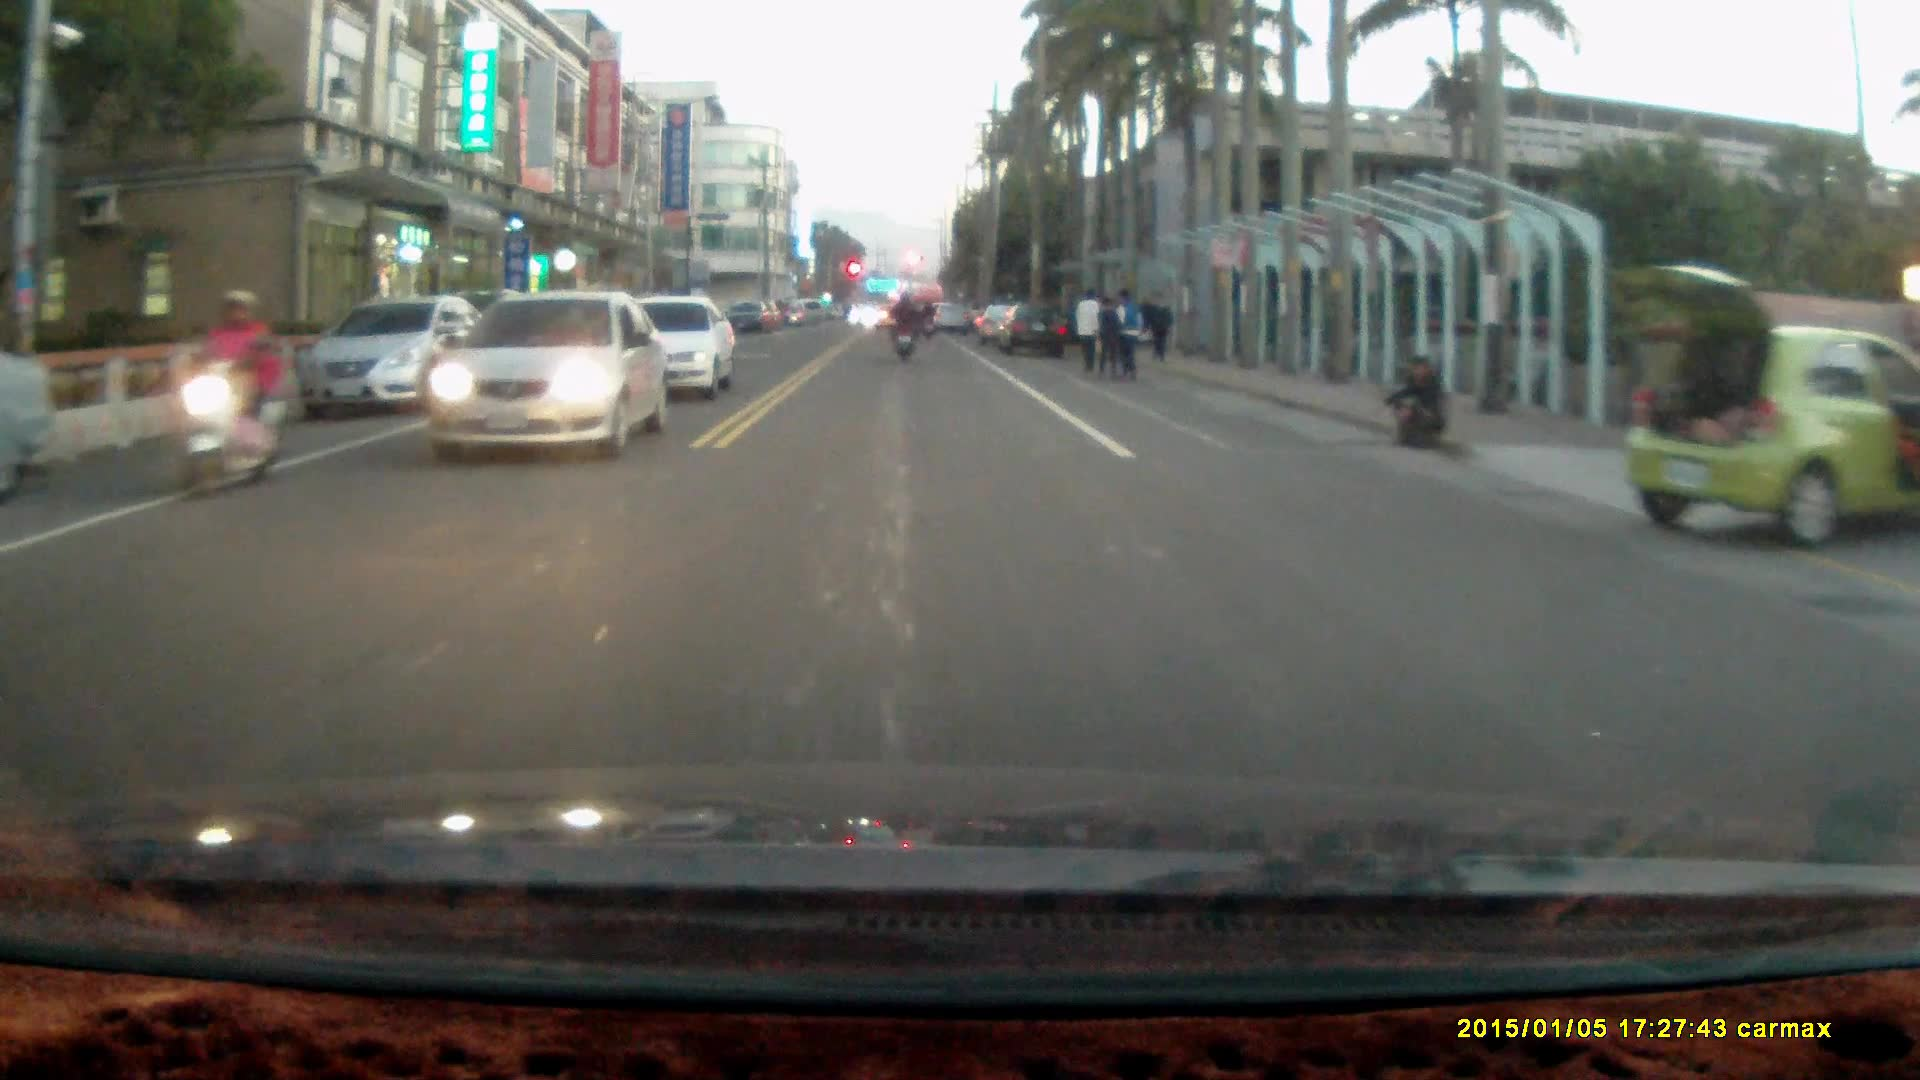pedestrian: (1384, 354, 1451, 450), (1103, 283, 1148, 381), (1074, 279, 1105, 375), (1093, 291, 1122, 379), (1145, 288, 1176, 360)
rider: (178, 284, 293, 501), (885, 285, 919, 361)
vehicle: (1620, 261, 1920, 552), (418, 284, 670, 457), (305, 295, 487, 422), (630, 295, 739, 402), (996, 302, 1073, 356)
